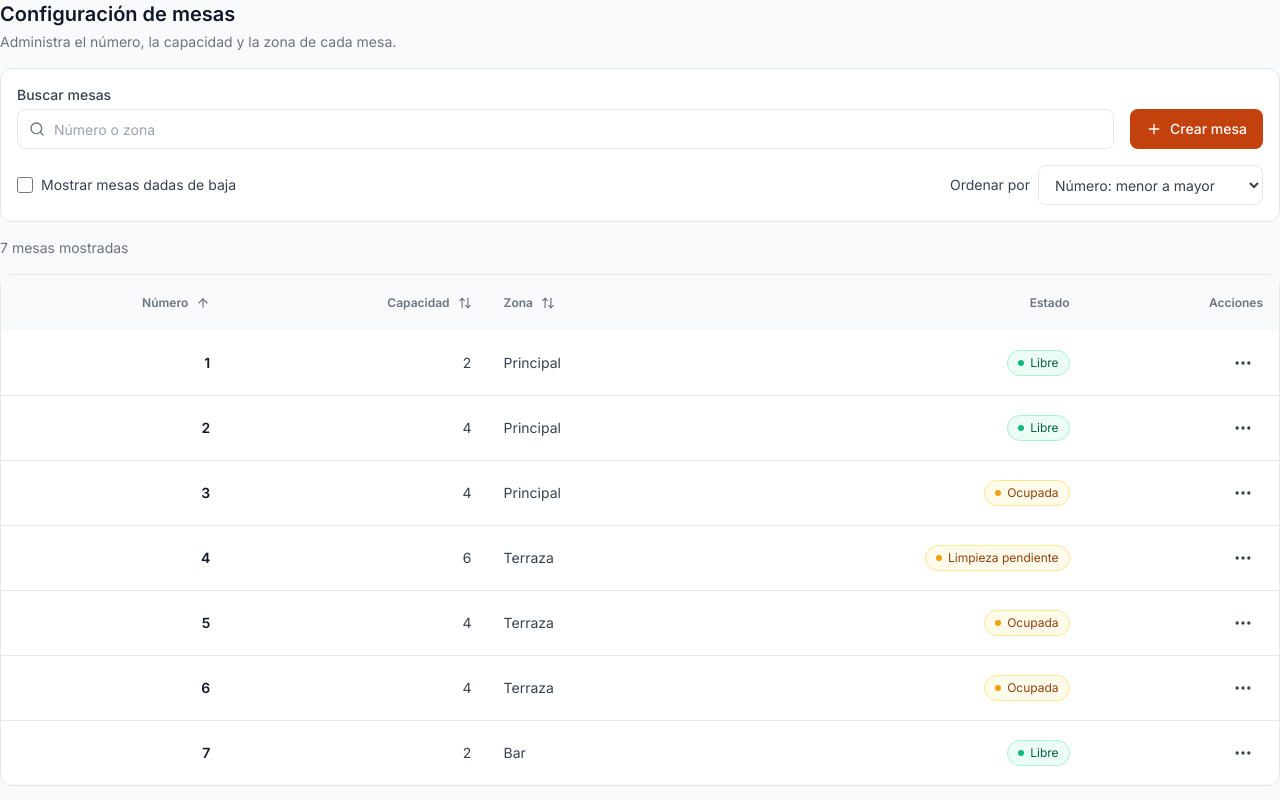
Test: FE-006 · Administración de mesas (integración frontend + MSW) › RN-19: permite reutilizar el número de una mesa dada de baja
Click the button "Crear mesa" at (1196, 129), box [1130,109,1263,149]
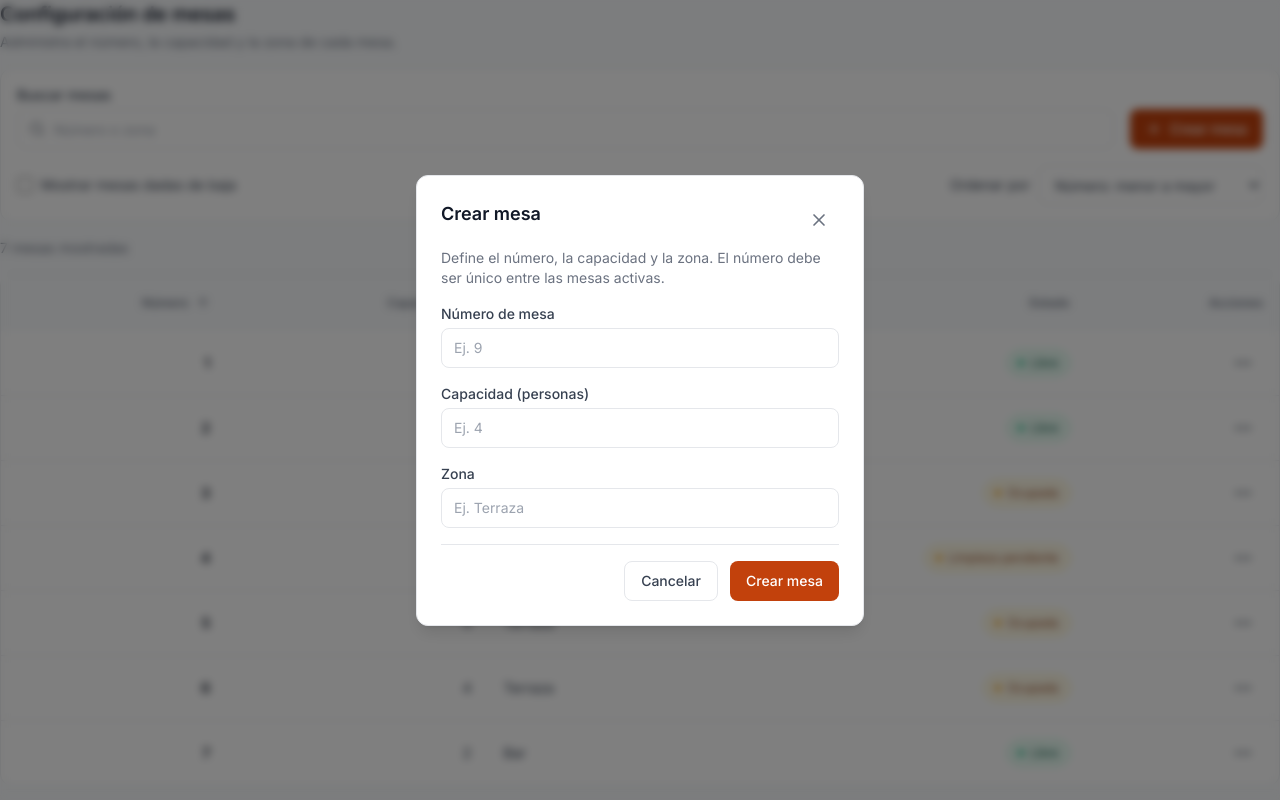
Type "8" into the number field labelled "Número de mesa" at (640, 348), box [441,328,839,368]
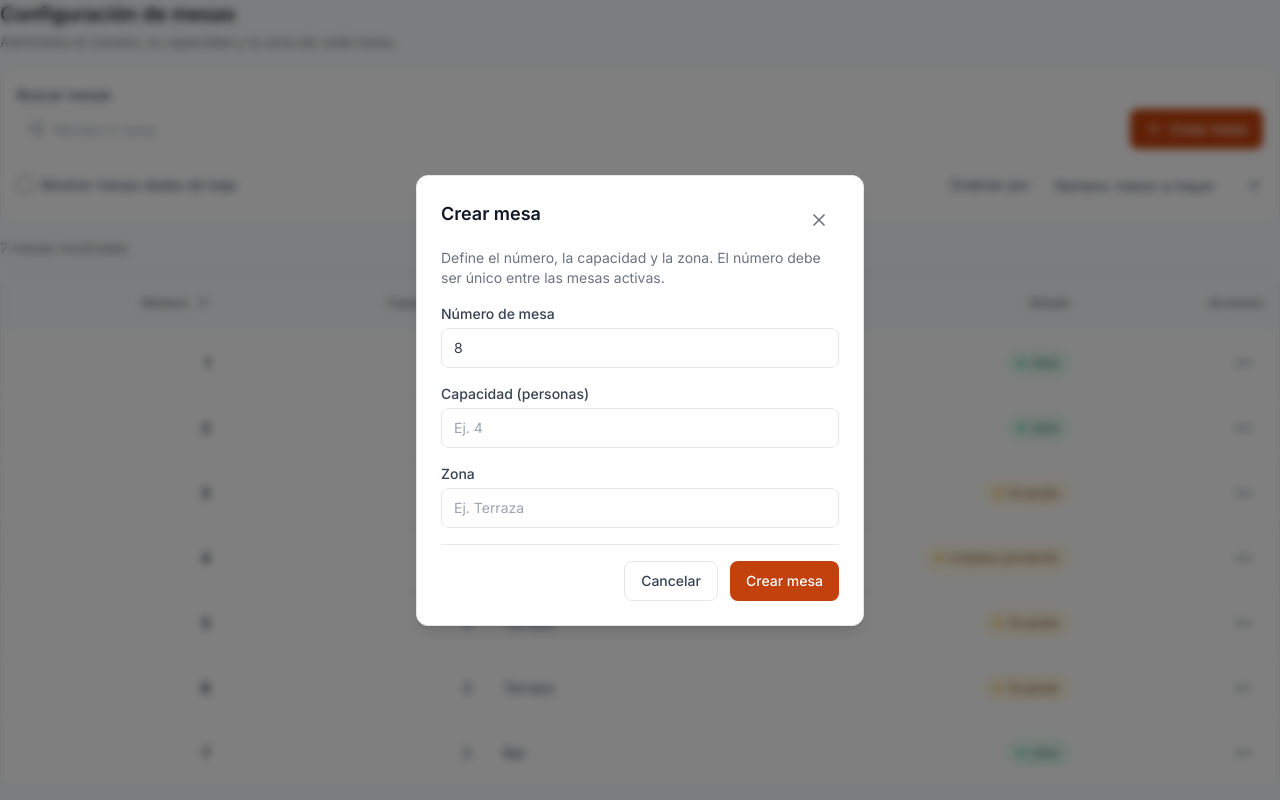
Type "4" into the number field labelled "Capacidad (personas)" at (640, 428), box [441,408,839,448]
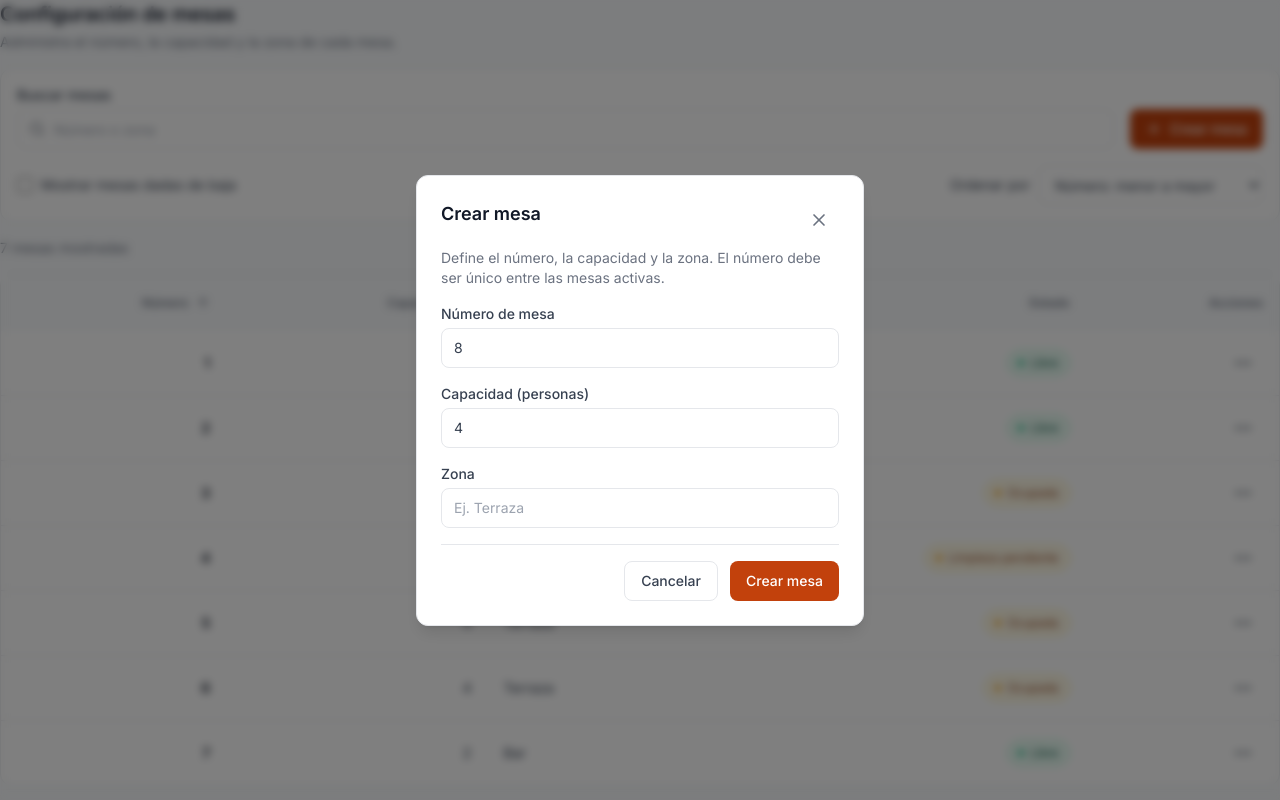
Type "Patio" into the field labelled "Zona" at (640, 508), box [441,488,839,528]
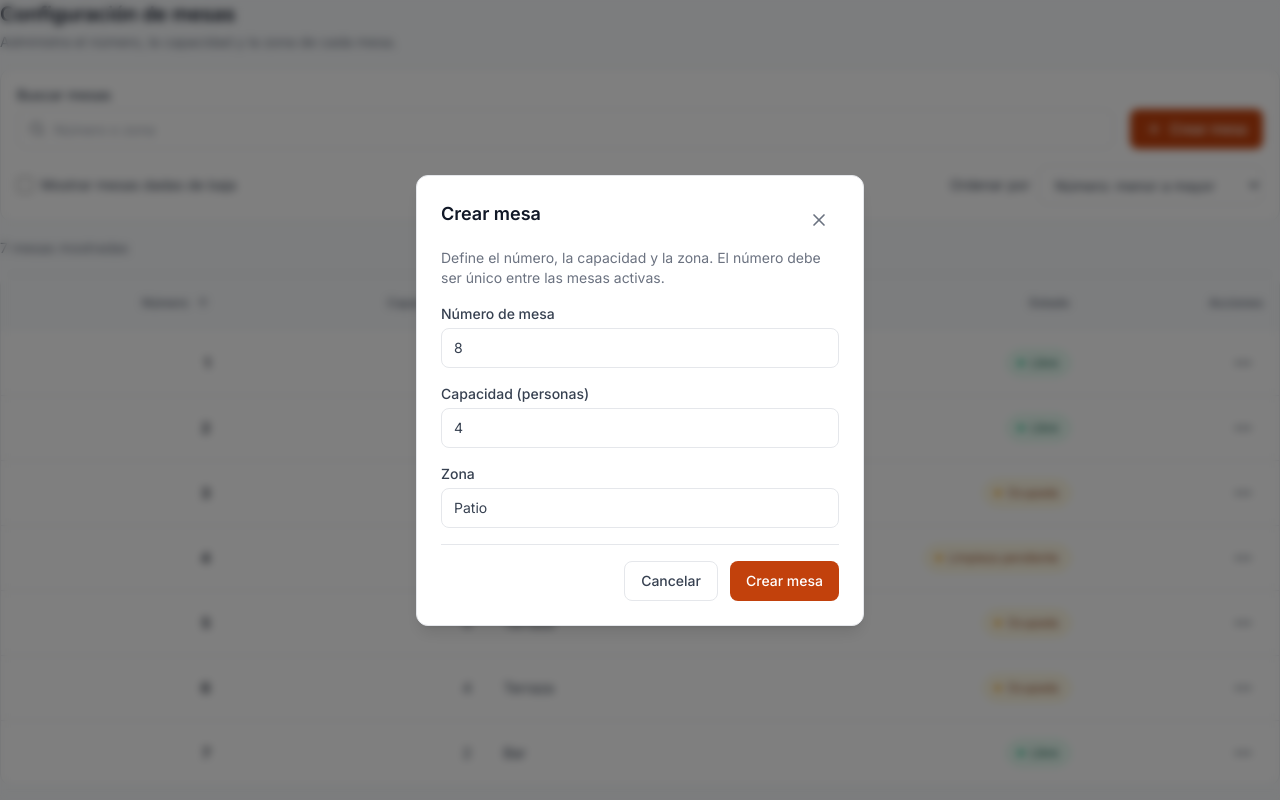
Click the button "Crear mesa" at (784, 580), box [730,560,839,600]
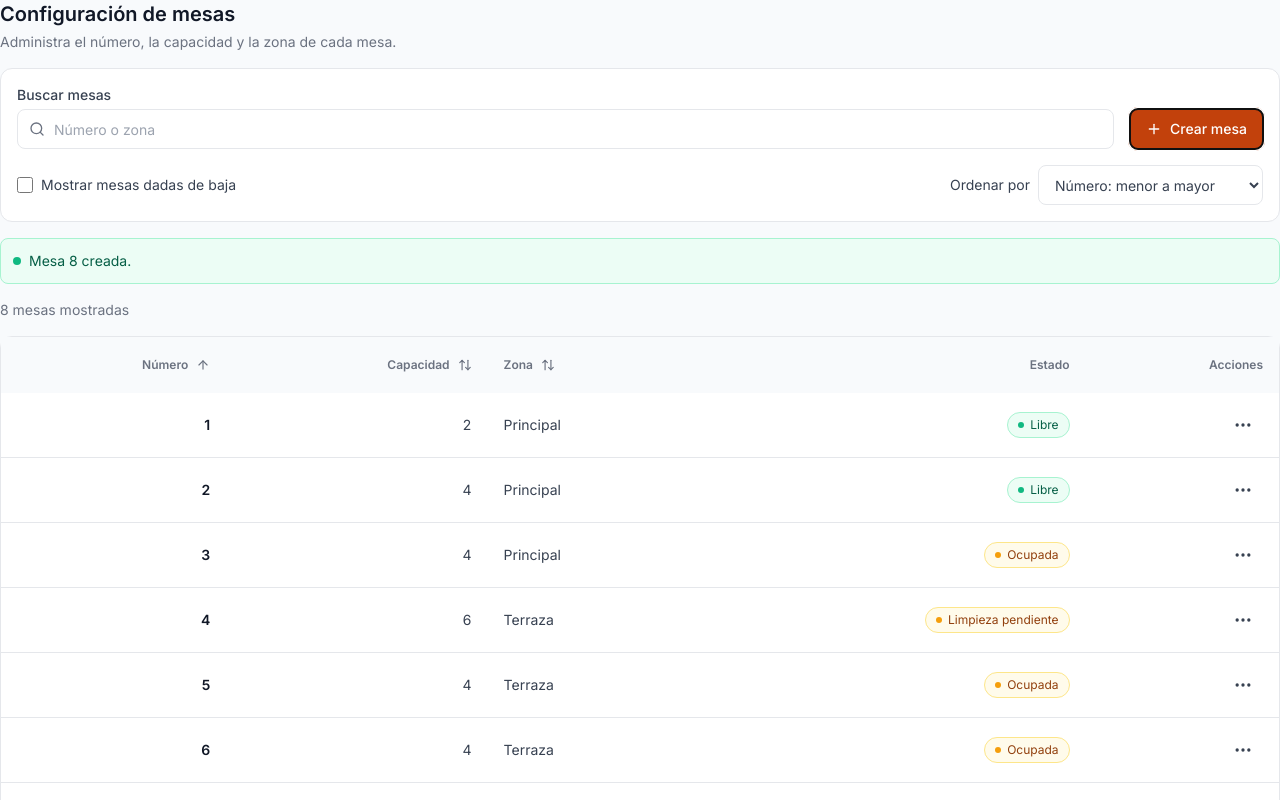
Check: the message reads "Mesa 8 creada.", box [29,252,131,269]
